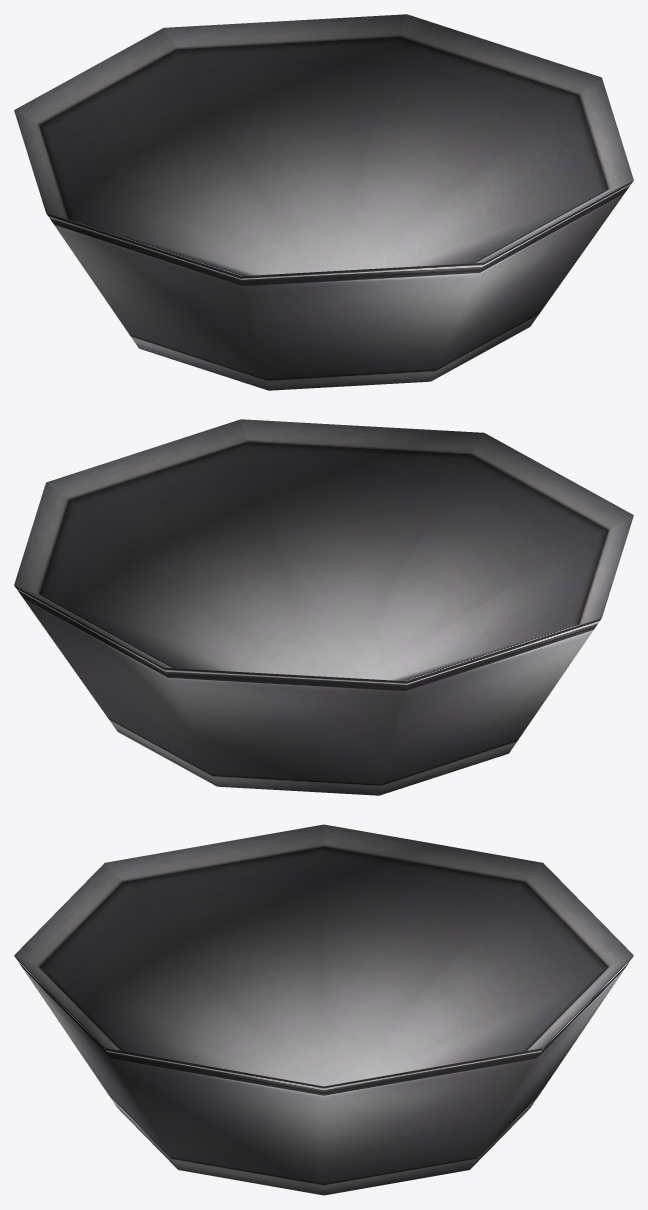
Rendered from bowl.obj.
3 views of the same model, one above another, from view 1: azimuth 30°, elevation 25°; view 2: azimuth 150°, elevation 25°; view 3: azimuth 270°, elevation 25° (orthographic). The views are drawn at different scales.
Parts seen in each view (by area): view 1: bowl; view 2: bowl; view 3: bowl.
Boxes of the visible parts, left/top/right/bottom form: bowl: left=14, top=14, right=633, bottom=390; bowl: left=14, top=419, right=633, bottom=795; bowl: left=14, top=824, right=633, bottom=1195.
Bounding box in the file's own units: 0.4974 × 0.1353 × 0.4974.
1 material, 1 textured.
